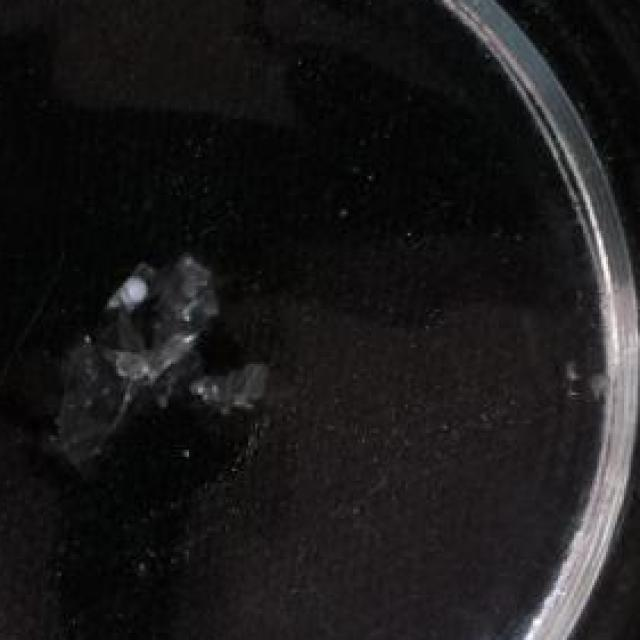Microplastic: (41, 212, 214, 507), (191, 350, 287, 416)
